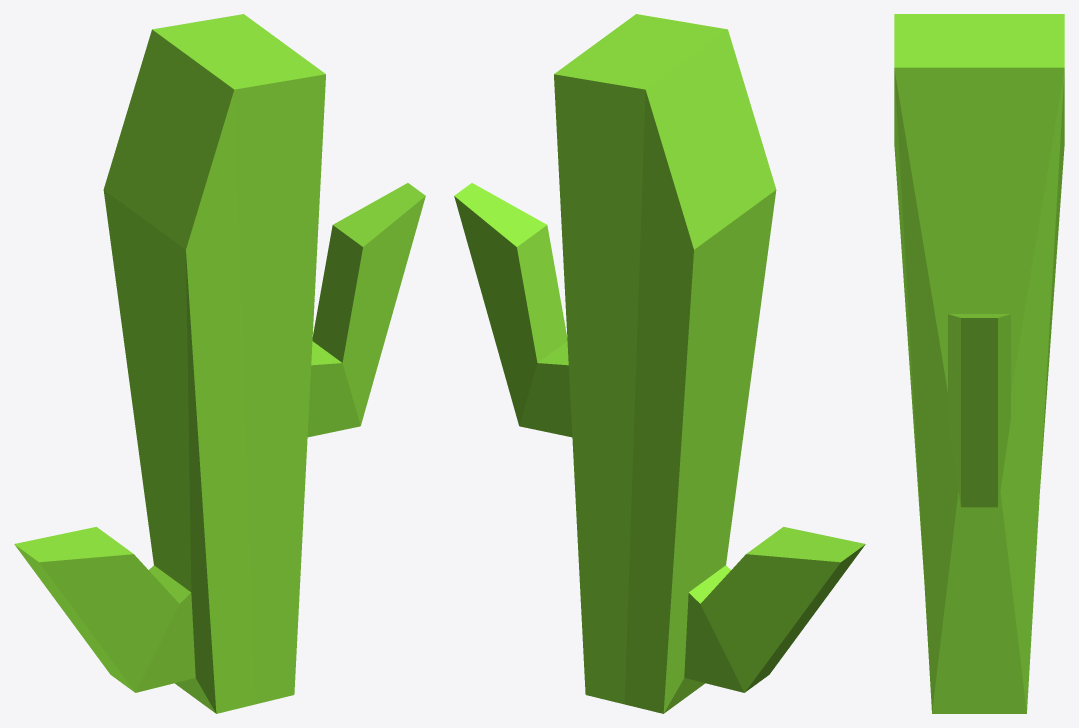
File: Cactus_2.fbx
3 renders of one model, left to right at view 1: azimuth 30°, elevation 25°; view 2: azimuth 150°, elevation 25°; view 3: azimuth 270°, elevation 25°, orthographic. The views are drawn at different scales.
Parts seen in each view (by area): view 1: Cube.024; view 2: Cube.024; view 3: Cube.024.
Part boxes in pixels (x1=…): Cube.024: x1=14, y1=14, x2=425, y2=713; Cube.024: x1=454, y1=14, x2=865, y2=713; Cube.024: x1=894, y1=14, x2=1064, y2=713.
Bounding box in the file's own units: 68.96 × 108 × 25.19.
